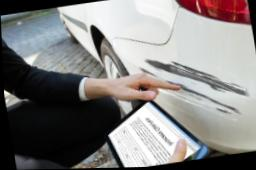Bumper: (120, 32, 256, 152)
